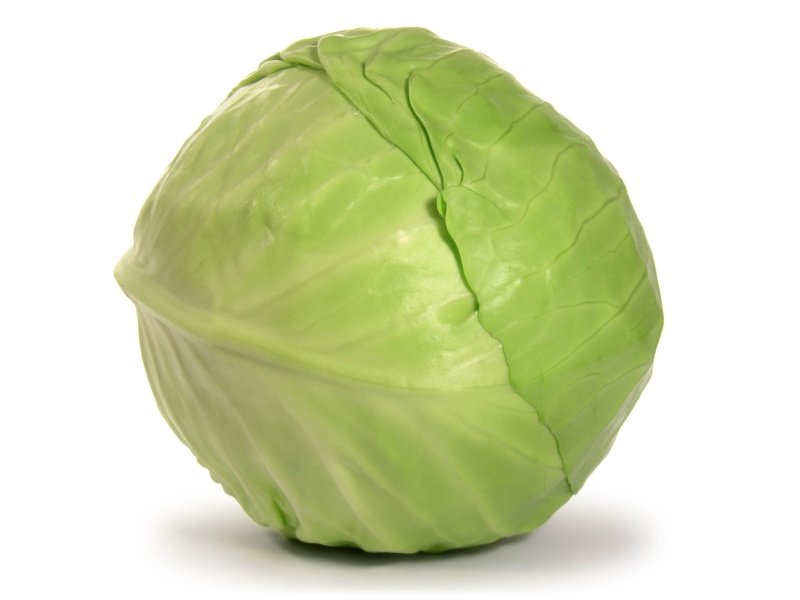Repollo: (111, 14, 686, 573)
